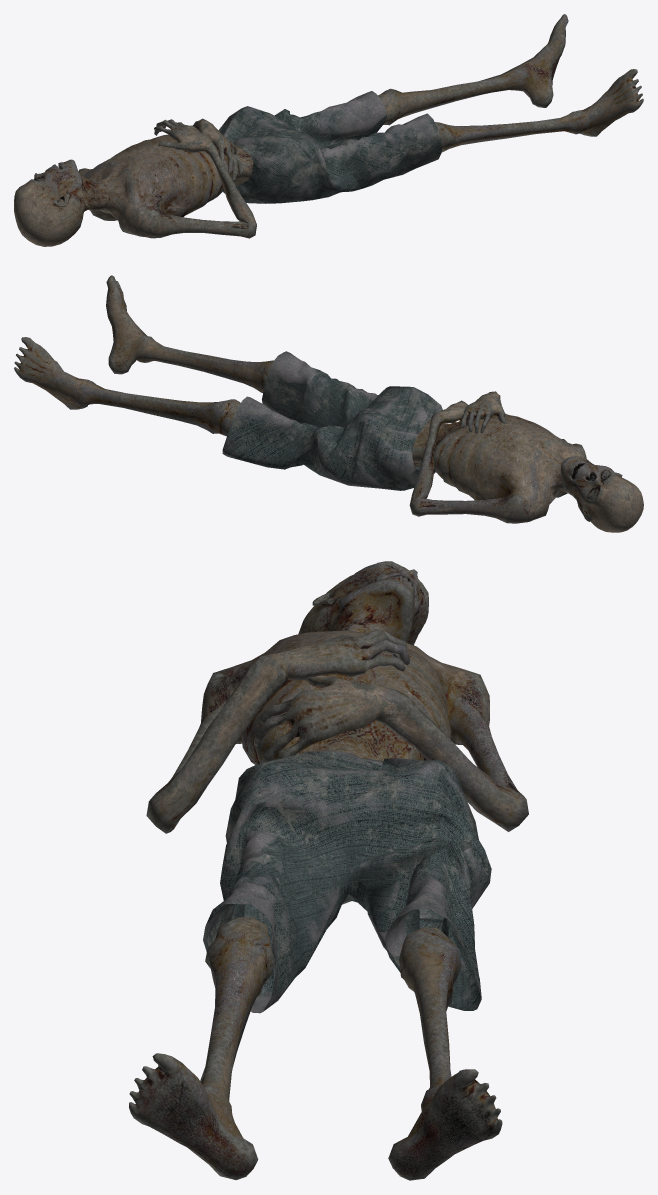
The model's file is P_Deceased04.fbx.
3 renders of one model, top to bottom at view 1: azimuth 30°, elevation 25°; view 2: azimuth 150°, elevation 25°; view 3: azimuth 270°, elevation 25°, orthographic. The views are drawn at different scales.
Visible parts, largest first — view 1: P_Deceased04; view 2: P_Deceased04; view 3: P_Deceased04.
Part boxes in pixels (x1=…): P_Deceased04: x1=14, y1=14, x2=643, y2=246; P_Deceased04: x1=14, y1=275, x2=643, y2=532; P_Deceased04: x1=129, y1=561, x2=528, y2=1180.
Bounding box in the file's own units: 246 × 36.83 × 74.
